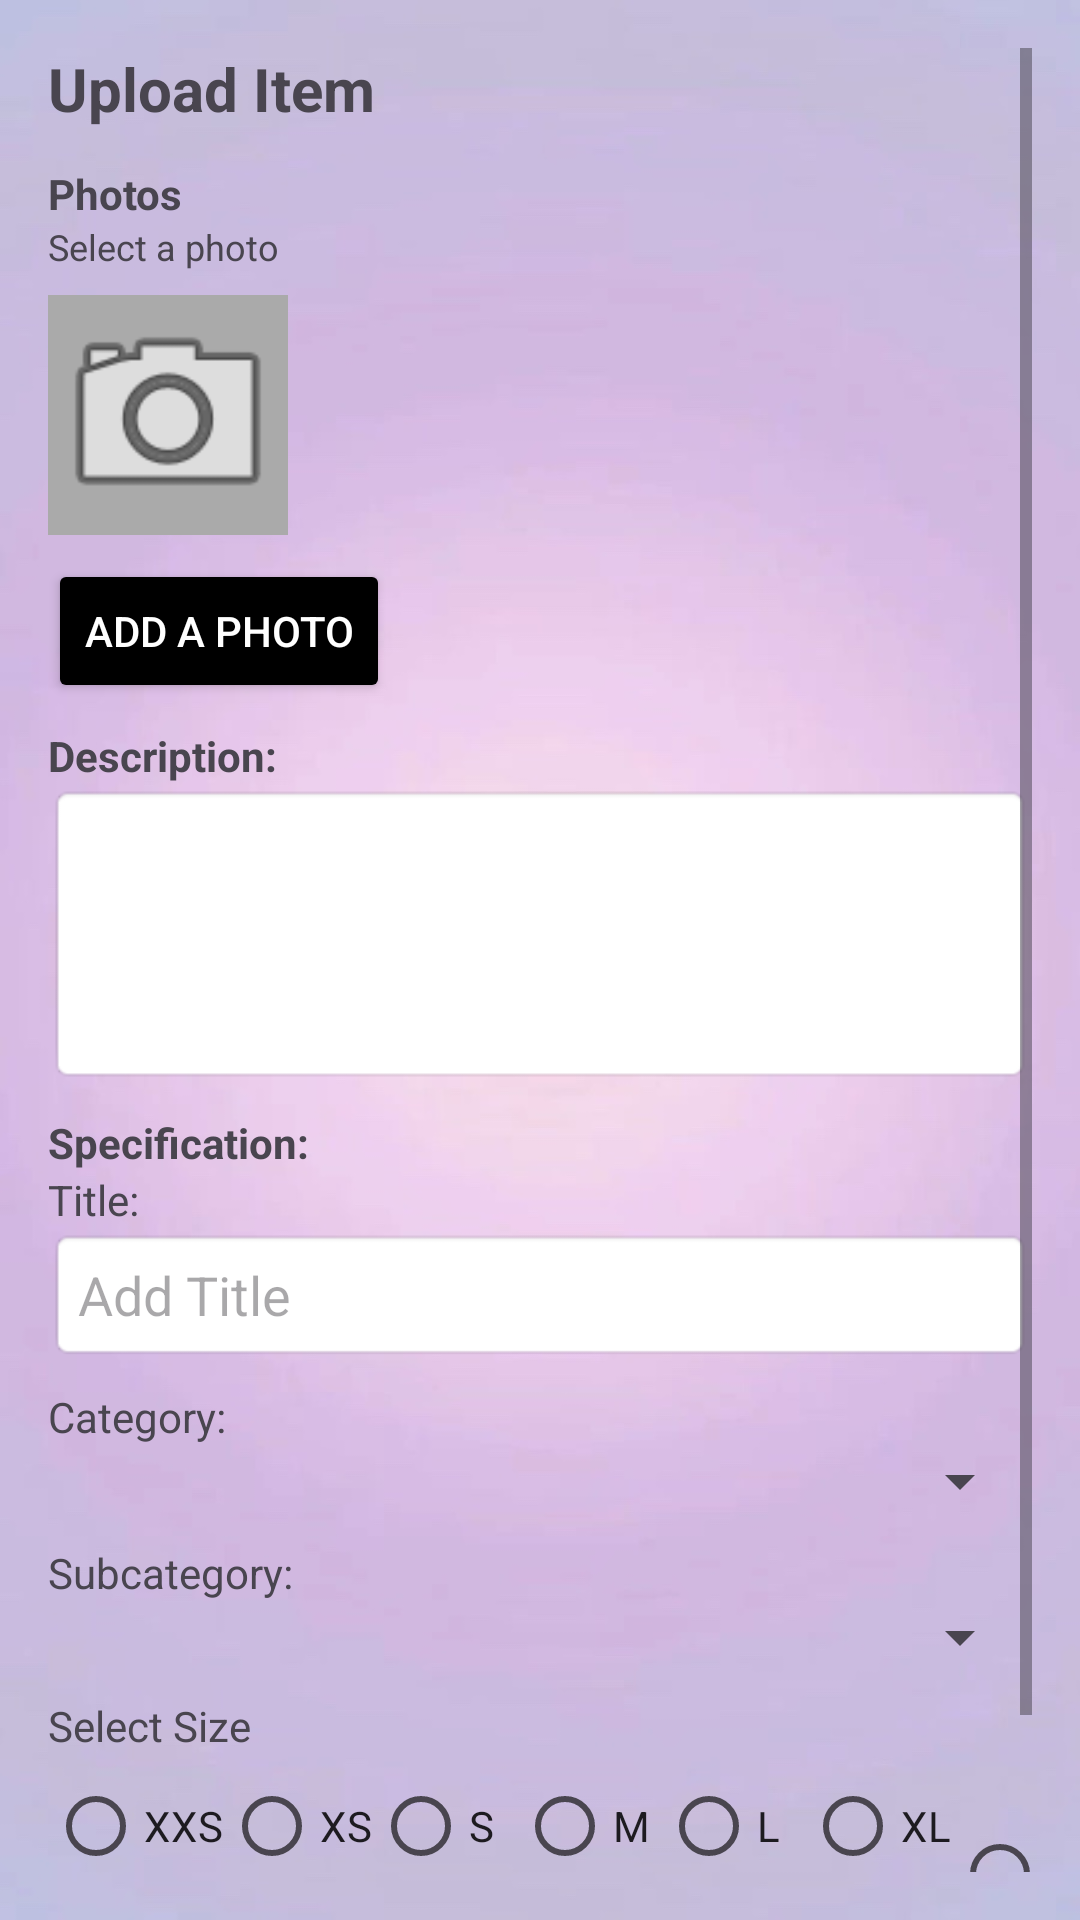

Screen size 1080 x 1920. Icon name, then its box in pixels as (x1, y1, x2, y2):
camera: (48, 295, 288, 535)
